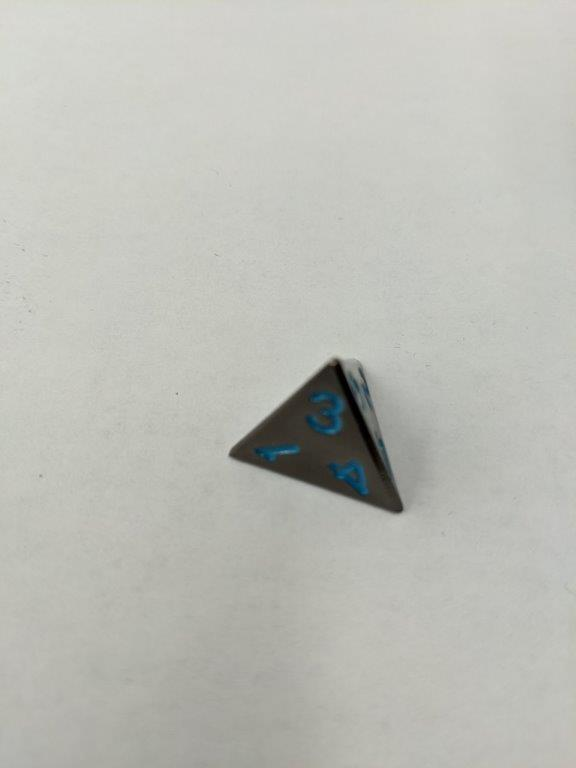d4-3: (224, 352, 415, 527)
